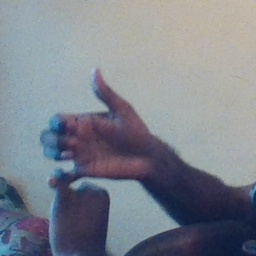S: (35, 66, 140, 244)
